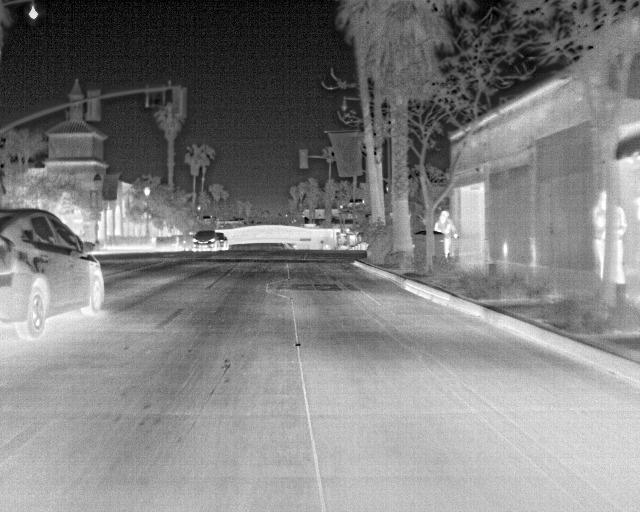bicycle: (0, 204, 111, 343), (189, 232, 217, 253), (213, 233, 227, 251)
empty: (591, 189, 610, 282), (432, 209, 456, 261), (614, 203, 628, 286)
